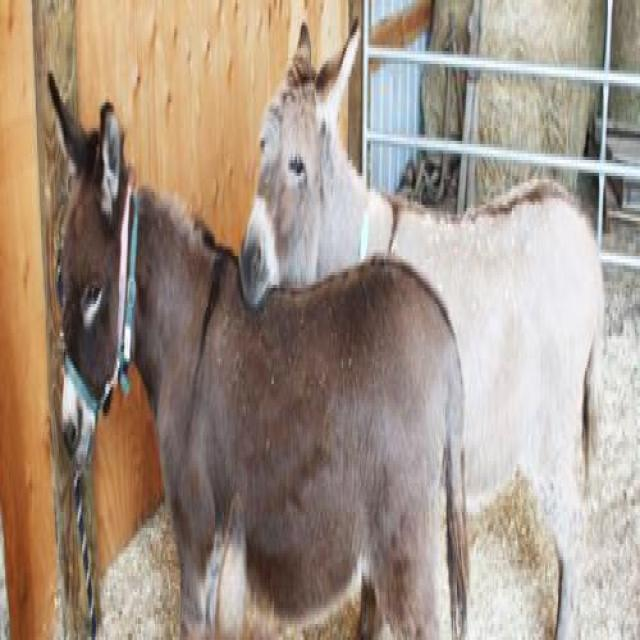Donkey: (43, 65, 470, 640), (236, 19, 604, 640)
